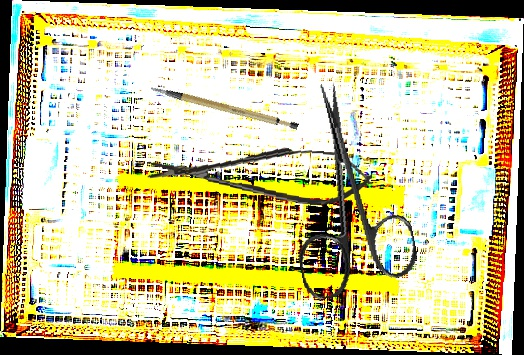Iris Scissors: (266, 72, 423, 303)
Micro Scissor: (145, 136, 374, 210)
Scalpel Handle: (150, 62, 300, 150)
